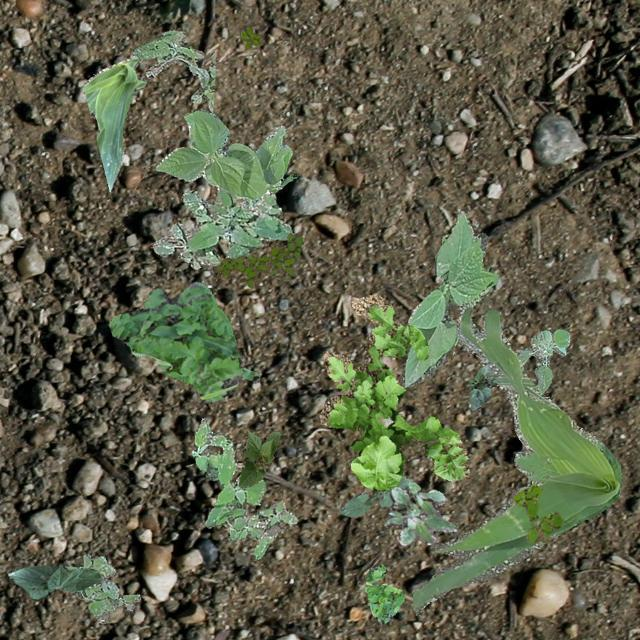crop: (402, 210, 498, 386), (154, 108, 292, 206), (82, 54, 144, 190), (8, 564, 102, 600), (338, 476, 411, 516), (238, 429, 280, 486), (469, 362, 496, 410)
weed: (412, 300, 620, 612), (318, 292, 468, 490), (108, 280, 258, 402), (190, 416, 296, 558), (152, 186, 292, 268), (132, 30, 215, 111), (64, 552, 140, 622), (214, 232, 302, 286), (384, 480, 454, 544), (514, 328, 568, 392), (510, 483, 562, 542), (364, 564, 404, 622), (240, 26, 260, 48)
